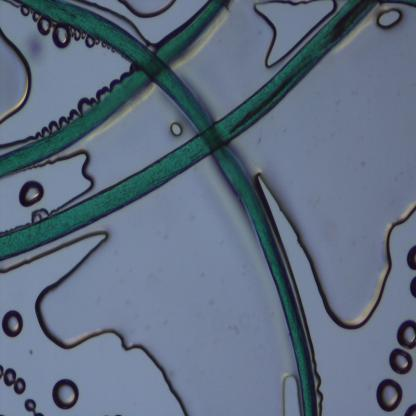Air bubble: (27, 250, 199, 416), (283, 132, 416, 328), (248, 3, 310, 70), (0, 27, 32, 124), (66, 146, 97, 195), (52, 376, 80, 412), (376, 378, 404, 413), (121, 1, 178, 18), (280, 371, 302, 415), (18, 181, 47, 208), (375, 4, 406, 29), (0, 308, 25, 338), (389, 346, 413, 374), (396, 318, 416, 350), (53, 26, 71, 52), (404, 243, 416, 271), (168, 121, 186, 139), (38, 18, 53, 37), (3, 367, 17, 385), (407, 275, 416, 300), (23, 398, 37, 414), (14, 378, 26, 395), (403, 402, 416, 414), (85, 36, 95, 49), (20, 5, 29, 17), (32, 10, 40, 23), (0, 363, 4, 382)
Microfibre: (20, 1, 318, 415), (0, 2, 378, 267), (0, 0, 225, 179)
